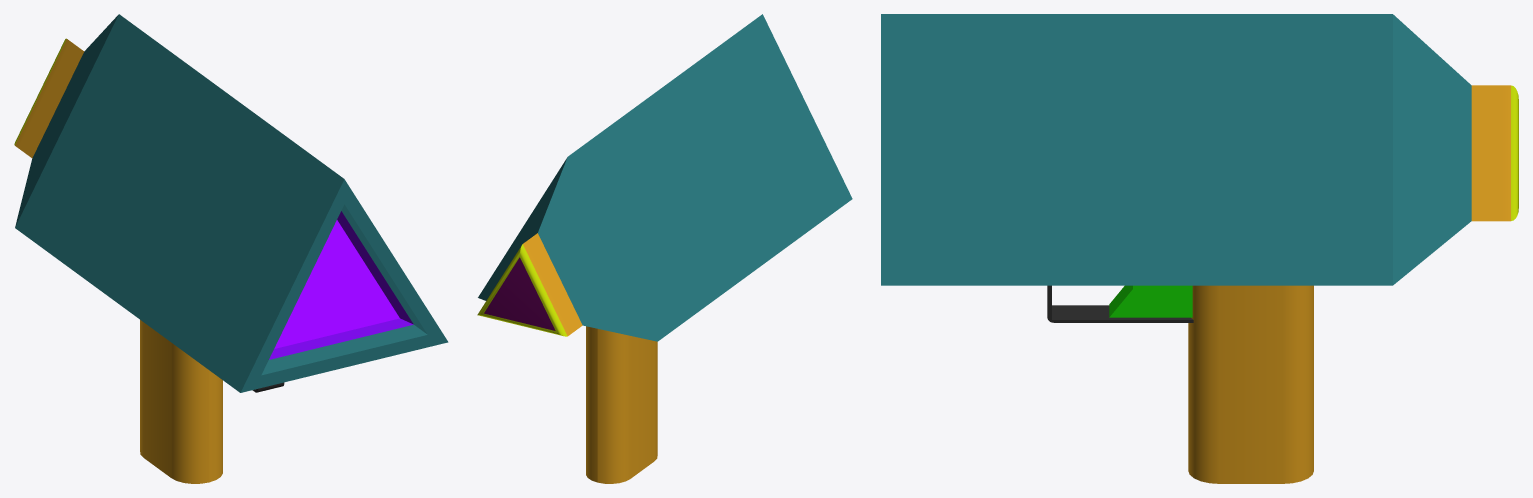
The model's file is AbsolverGun.fbx.
The picture shows the model from 3 angles, left to right: view 1: azimuth 30°, elevation 25°; view 2: azimuth 150°, elevation 25°; view 3: azimuth 270°, elevation 25°; orthographic projection. The views are drawn at different scales.
Visible parts, largest first — view 1: AbsolverGun, GripCubeAbsolve; view 2: AbsolverGun, GripCubeAbsolve; view 3: AbsolverGun, GripCubeAbsolve, TriggerAbsolve, TriggerGuardAbsolve.
Part boxes in pixels (x1,y1,x2,y2): AbsolverGun: (14,14,448,392); GripCubeAbsolve: (140,320,222,483); AbsolverGun: (477,14,852,341); GripCubeAbsolve: (586,326,657,483); AbsolverGun: (881,14,1518,285); GripCubeAbsolve: (1188,285,1313,483); TriggerAbsolve: (1109,285,1192,317); TriggerGuardAbsolve: (1047,285,1193,322).
Size of the model in its own units: 173 by 320 by 405.
